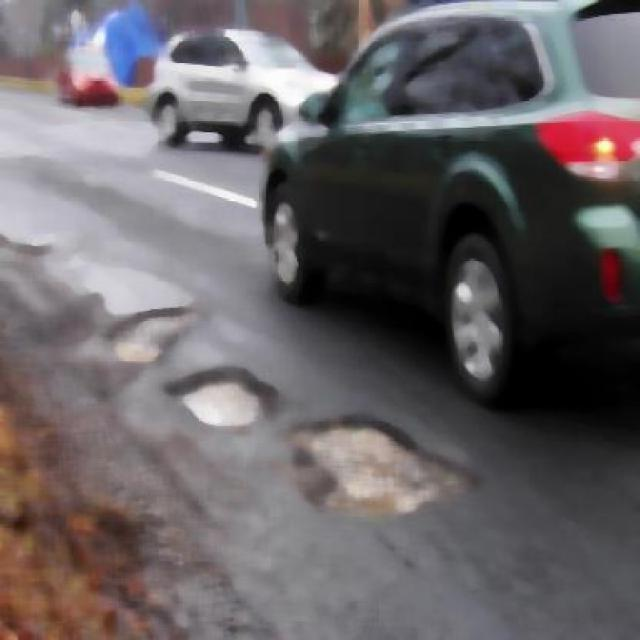pothole: (306, 397, 467, 552), (80, 253, 203, 384), (156, 353, 279, 442)
